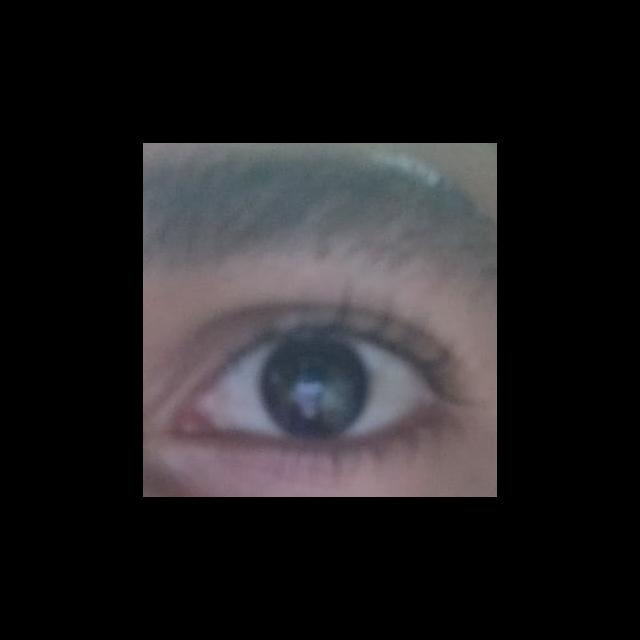eye: (208, 330, 429, 441)
iris: (260, 336, 367, 438)
